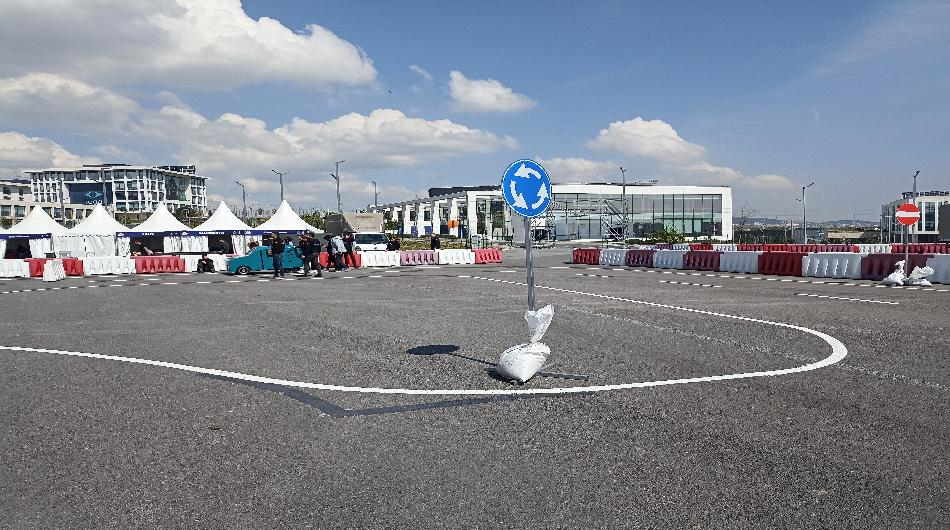ada: (503, 160, 554, 216)
girilmez: (892, 201, 923, 231)
